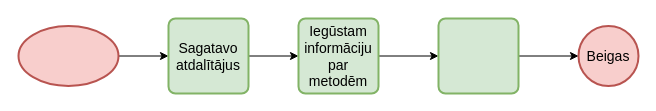
Image size: 656x111. Some labels were removed from this diagram. Here are the shapes that lost their labels. From the top down, the box of each, then its label:
(17, 24, 119, 86): Sākums
(437, 17, 519, 94): Atgriežam informāciju
